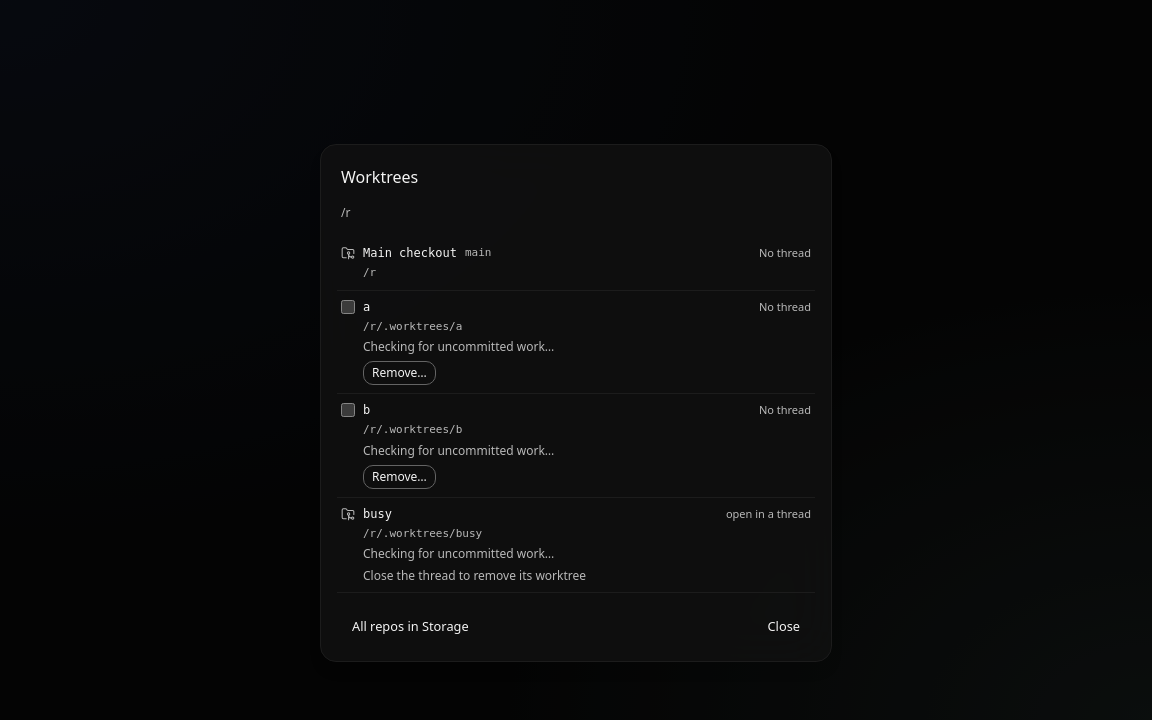
Test case: WorktreesDialog bulk removal › forces only the worktrees refused as dirty, after confirming
Expected: the list item "a" is shown, [337,290,815,394]
Click the checkbox named "Select a" at [348, 306], box [341,300,355,314]
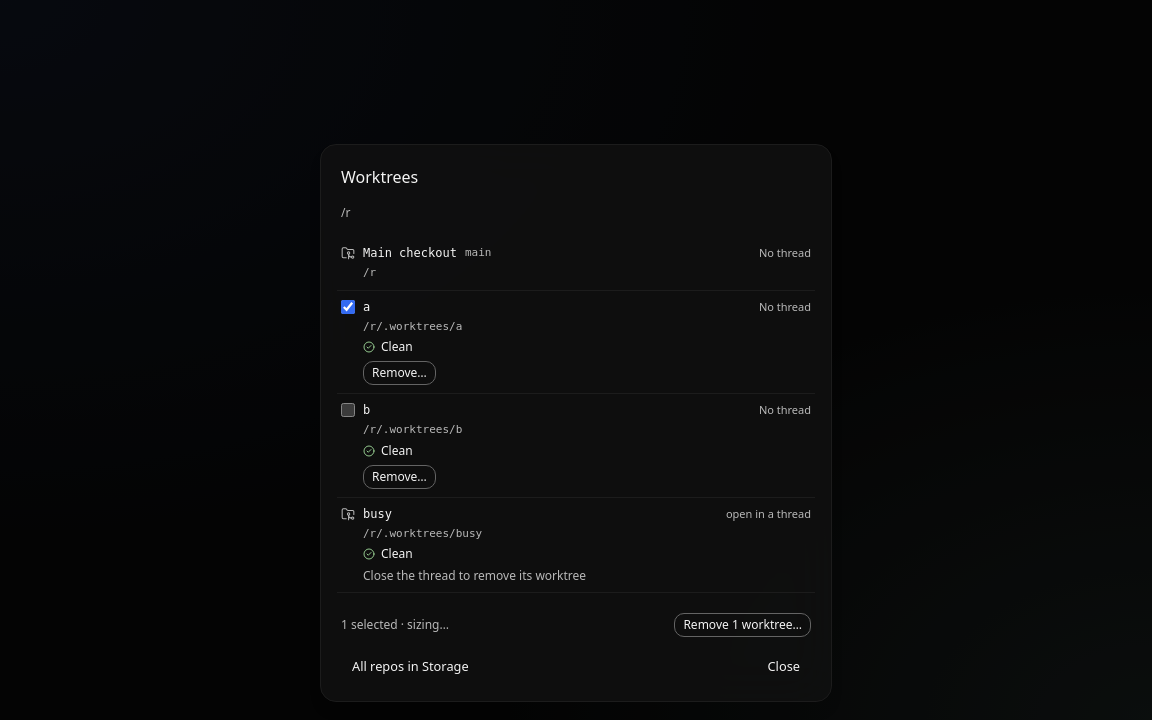
Click the checkbox named "Select b" at [348, 410], box [341,403,355,417]
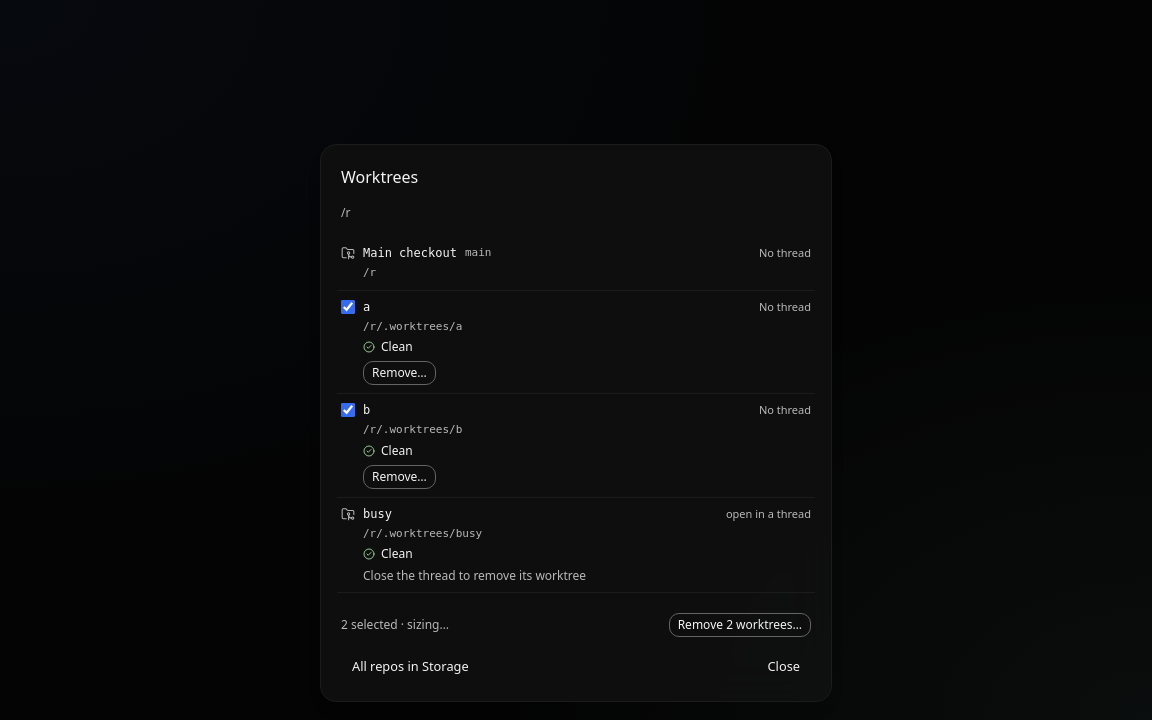
Click the button "Remove 2 worktrees…" at [740, 625], box [669,613,811,637]
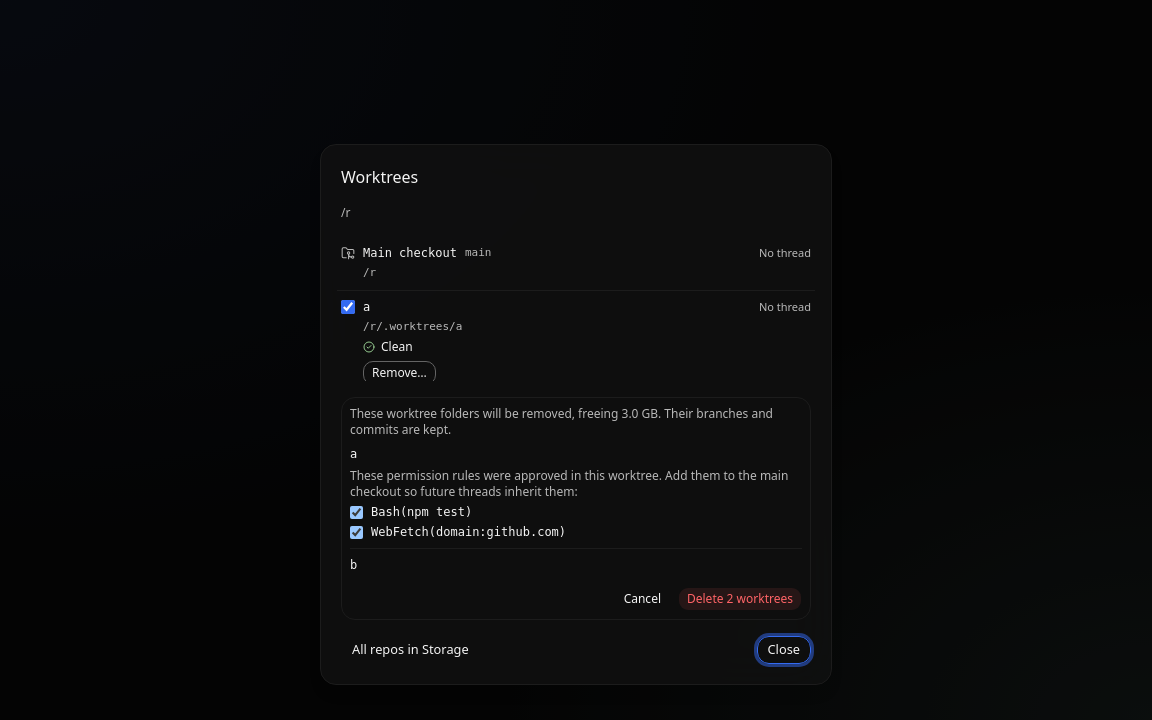
Result: the button "Delete 2 worktrees" is enabled
Click the button "Delete 2 worktrees" at [740, 599], box [678,587,802,611]
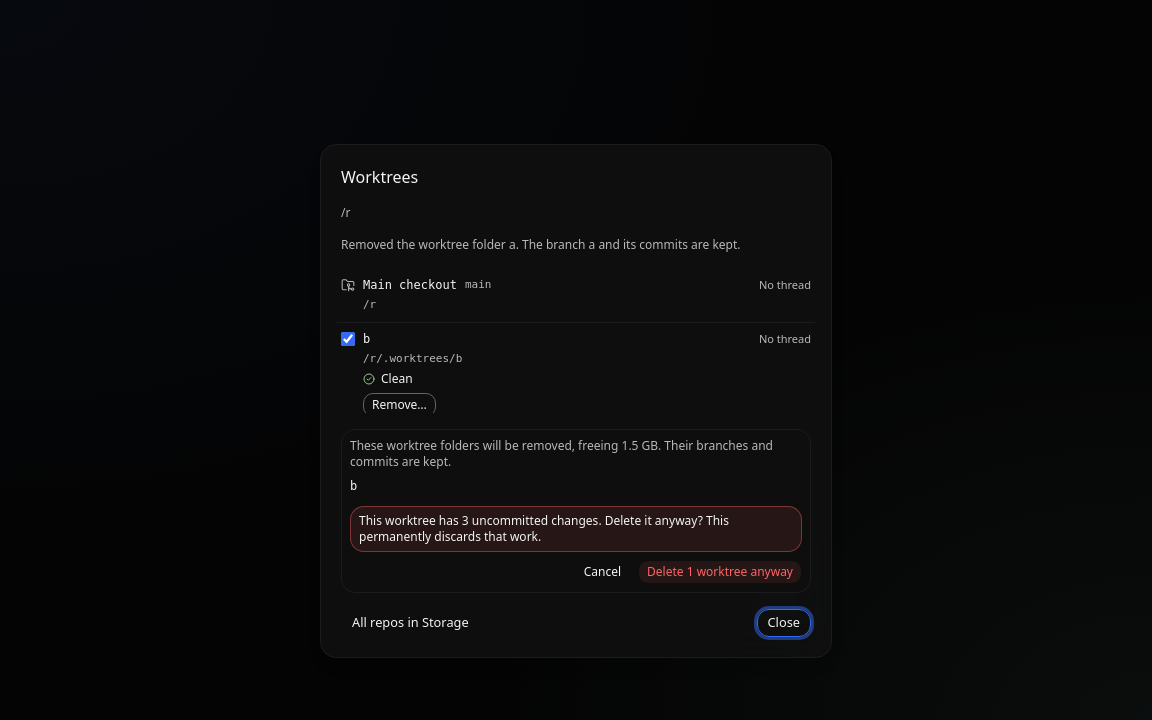
Result: the text "3 uncommitted changes" is shown at [462,512,598,529]
Click the button "Delete 1 worktree anyway" at [720, 572], box [638,560,802,584]
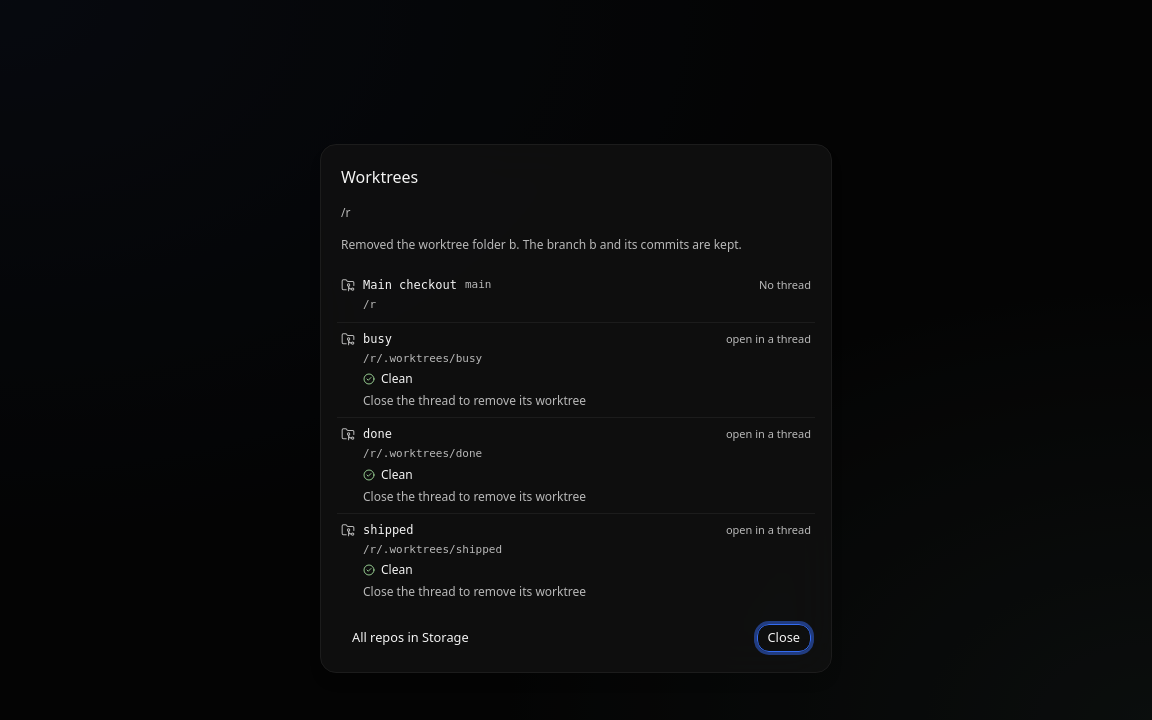
Result: the element with test id "worktree-bulk-remove" is gone
